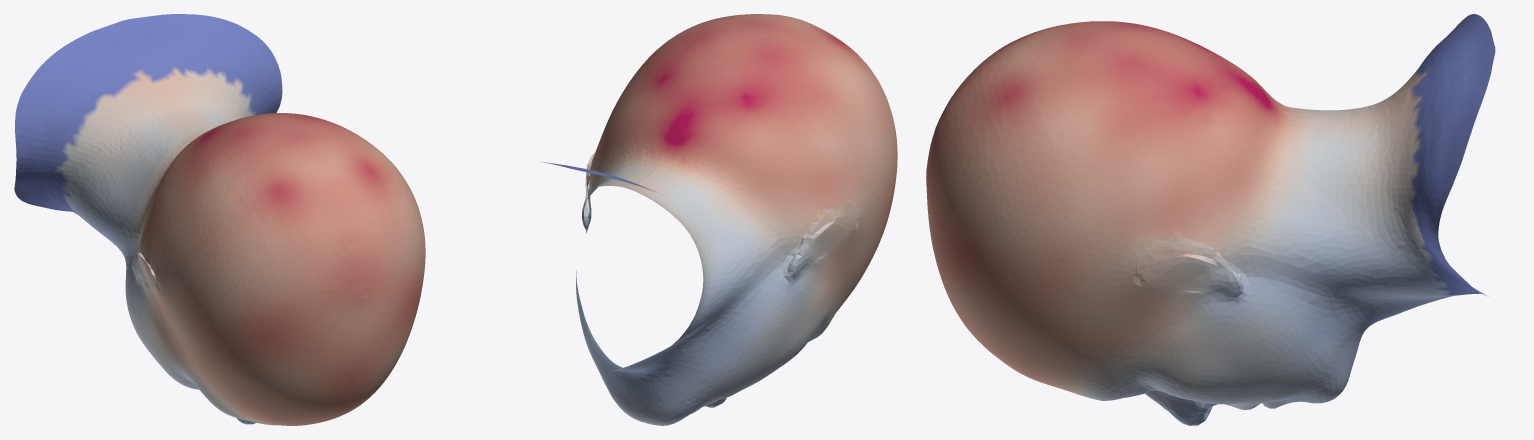
Rendered from head.glb.
3 renders of one model, left to right at view 1: azimuth 30°, elevation 25°; view 2: azimuth 150°, elevation 25°; view 3: azimuth 270°, elevation 25°, orthographic. The views are drawn at different scales.
Visible parts, largest first — view 1: world; view 2: world; view 3: world.
Part boxes in pixels (x1,y1,x2,y2): world: (14,14,425,425); world: (543,14,897,425); world: (926,14,1495,425).
Bounding box in the file's own units: 196 × 226 × 314.
